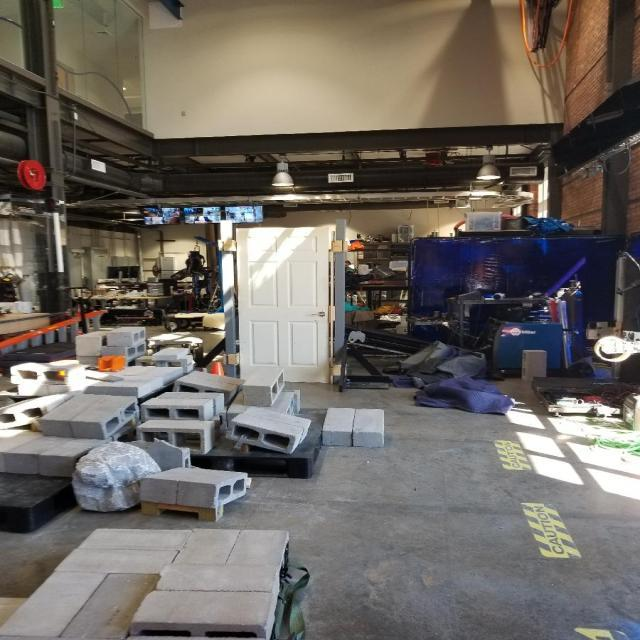door: (235, 222, 332, 388), (310, 309, 328, 320)
